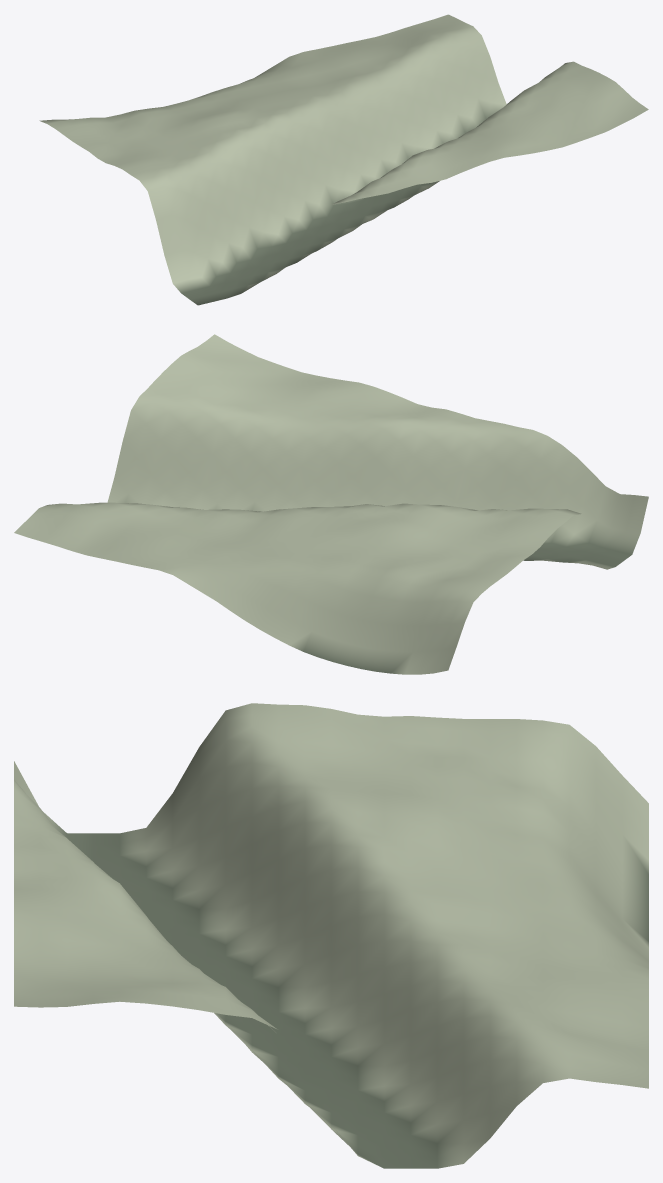
3 views of the same model, one above another, from view 1: azimuth 30°, elevation 25°; view 2: azimuth 150°, elevation 25°; view 3: azimuth 270°, elevation 25° (orthographic). The views are drawn at different scales.
Parts seen in each view (by area): view 1: world-ground/150-72; view 2: world-ground/150-72; view 3: world-ground/150-72.
Part boxes in pixels (x1,y1,x2,y2): world-ground/150-72: (39,14,648,305); world-ground/150-72: (14,334,648,674); world-ground/150-72: (14,703,648,1168).
Bounding box in the file's own units: 37.5 × 8.8 × 30.
